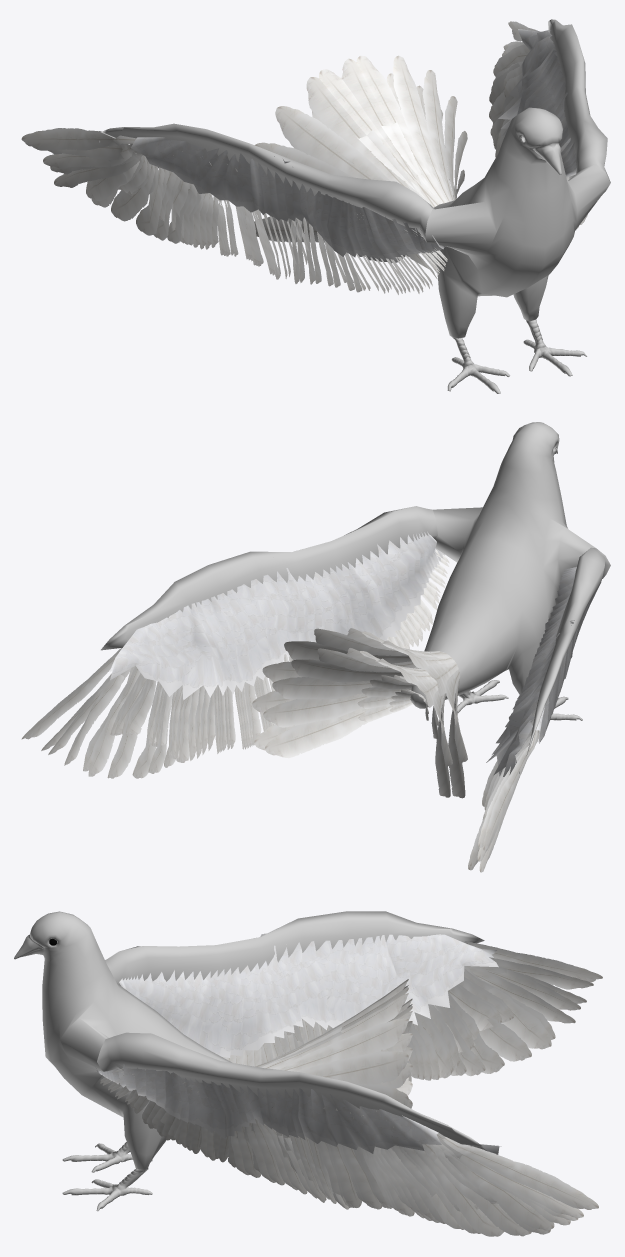
Rendered from pigeon2.fbx.
The picture shows the model from 3 angles, top to bottom: view 1: azimuth 30°, elevation 25°; view 2: azimuth 150°, elevation 25°; view 3: azimuth 270°, elevation 25°; orthographic projection. The views are drawn at different scales.
Visible parts, largest first — view 1: Body, polySurface301, polySurface209, polySurface52, polySurface51, polySurface45, polySurface44, polySurface50, polySurface41, polySurface302, polySurface46, polySurface316 (+9 smaller); view 2: Body, polySurface209, polySurface300, polySurface334, polySurface335, polySurface339, polySurface338, polySurface211, polySurface302, polySurface301, polySurface148, polySurface138 (+10 smaller); view 3: Body, polySurface300, polySurface371, polySurface211, polySurface45, polySurface46, polySurface44, polySurface240, polySurface224, polySurface369, polySurface302, polySurface228 (+32 smaller).
Boxes of the visible parts, x1,y1,x2,y2 form: Body: (101,19,610,393); polySurface301: (131,137,444,260); polySurface209: (498,29,576,177); polySurface52: (275,106,389,180); polySurface51: (306,77,421,197); polySurface45: (392,55,451,202); polySurface44: (356,55,447,203); polySurface50: (341,58,435,207); polySurface41: (319,69,441,205); polySurface302: (21,128,136,150); polySurface46: (422,70,454,200); polySurface316: (111,165,155,221); Body: (101,422,610,755); polySurface209: (110,531,438,699); polySurface300: (486,567,576,776); polySurface334: (264,708,371,758); polySurface335: (263,693,370,727); polySurface339: (272,676,373,699); polySurface338: (291,659,403,682); polySurface211: (21,648,121,739); polySurface302: (483,730,537,850); polySurface301: (536,574,603,743); polySurface148: (88,666,134,776); polySurface138: (64,674,124,765); Body: (14,911,484,1211); polySurface300: (119,934,498,1057); polySurface371: (96,1064,441,1153); polySurface211: (441,1136,598,1209); polySurface45: (273,1018,408,1071); polySurface46: (297,1051,408,1084); polySurface44: (261,993,408,1068); polySurface240: (464,966,551,1049); polySurface224: (417,1149,504,1236); polySurface369: (466,966,575,1023); polySurface302: (465,941,602,982); polySurface228: (438,1149,554,1230).
Size of the model in its own units: 44.97 by 24.39 by 49.42.
